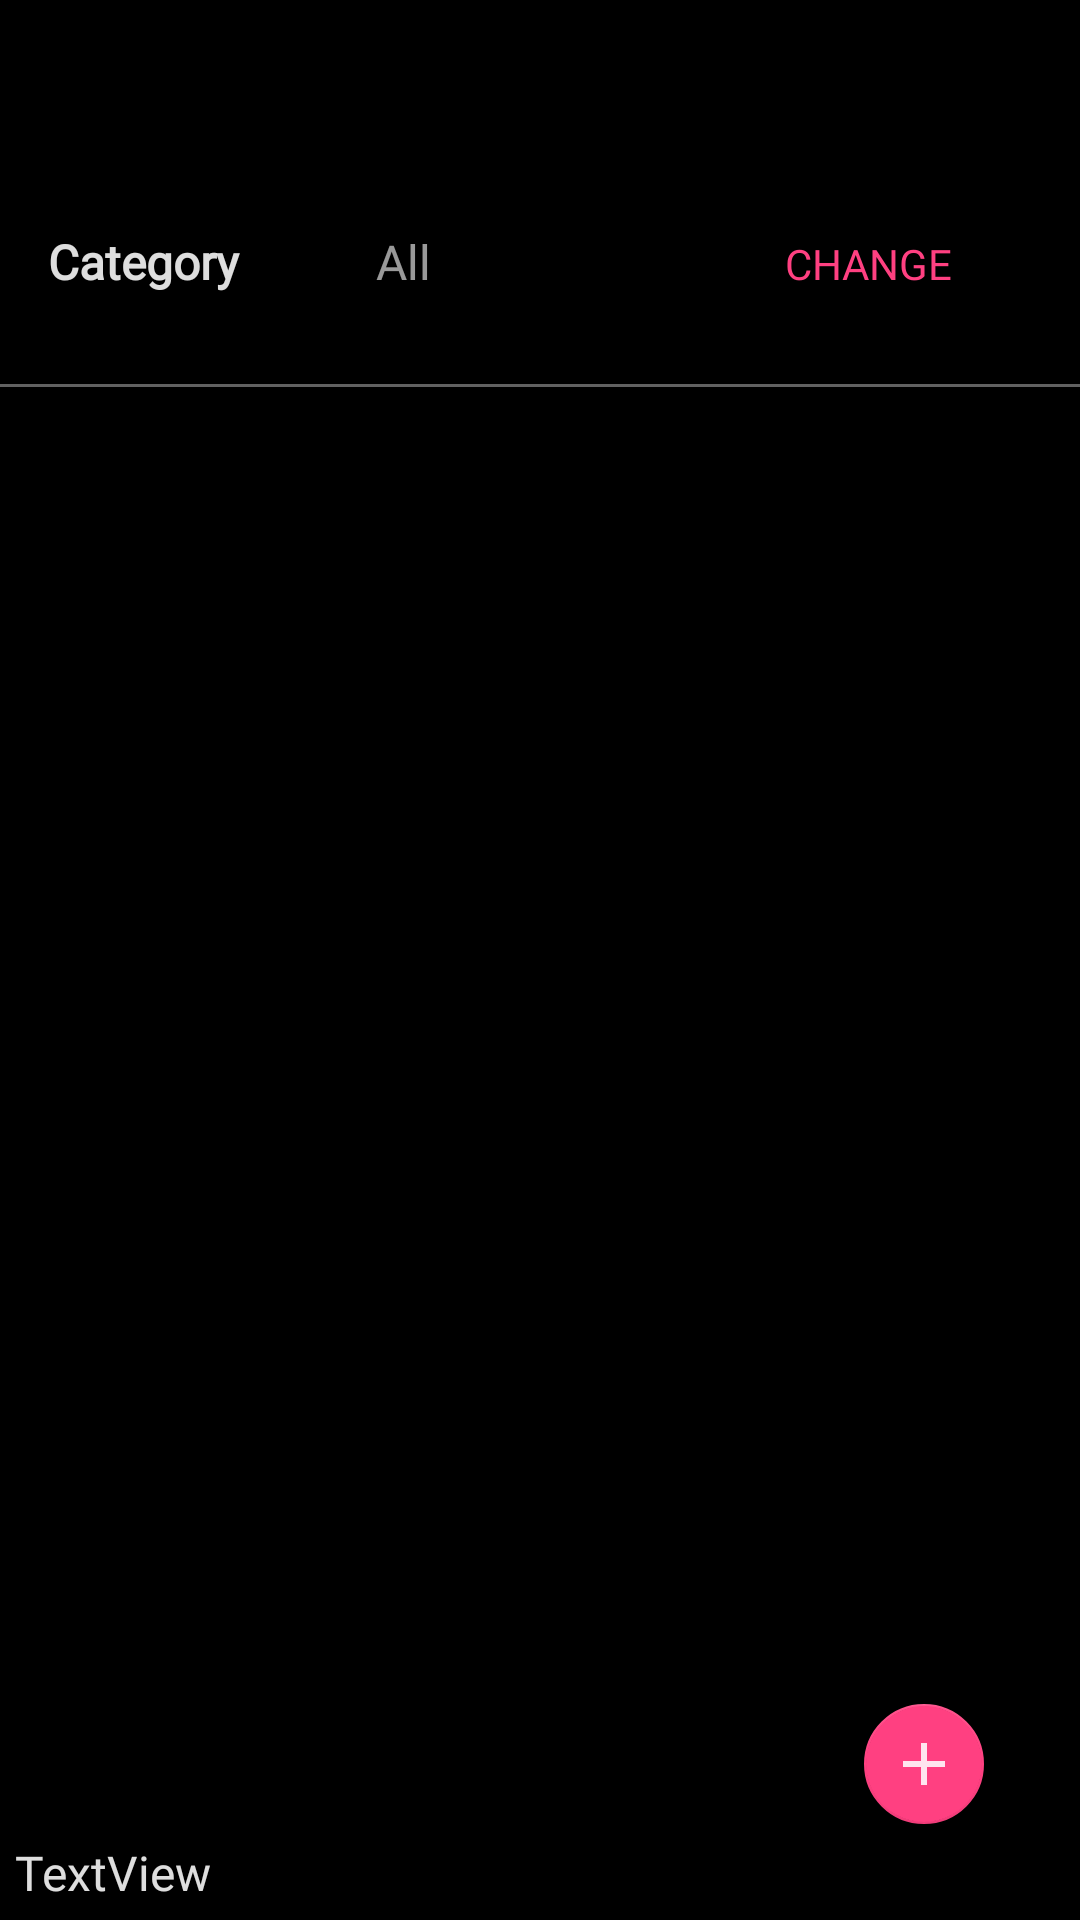

Icons on this 1080x1920 Android screen, each with the point to tap as point (x, y):
add: point (924, 1764)
